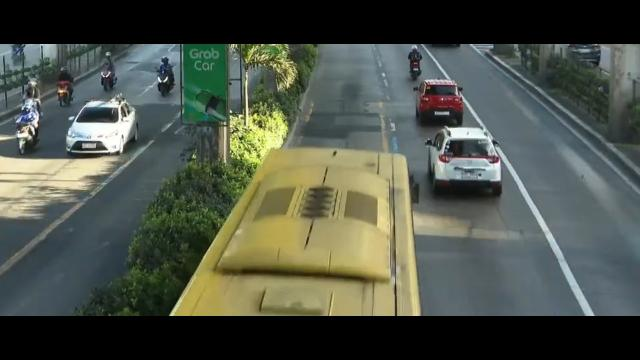bus: (165, 127, 442, 319)
car: (415, 120, 515, 215), (64, 83, 142, 165), (409, 77, 470, 123)
motorcycle: (18, 100, 41, 158), (155, 55, 175, 98), (24, 76, 42, 118), (101, 51, 119, 93), (56, 65, 73, 105), (409, 44, 423, 78)
